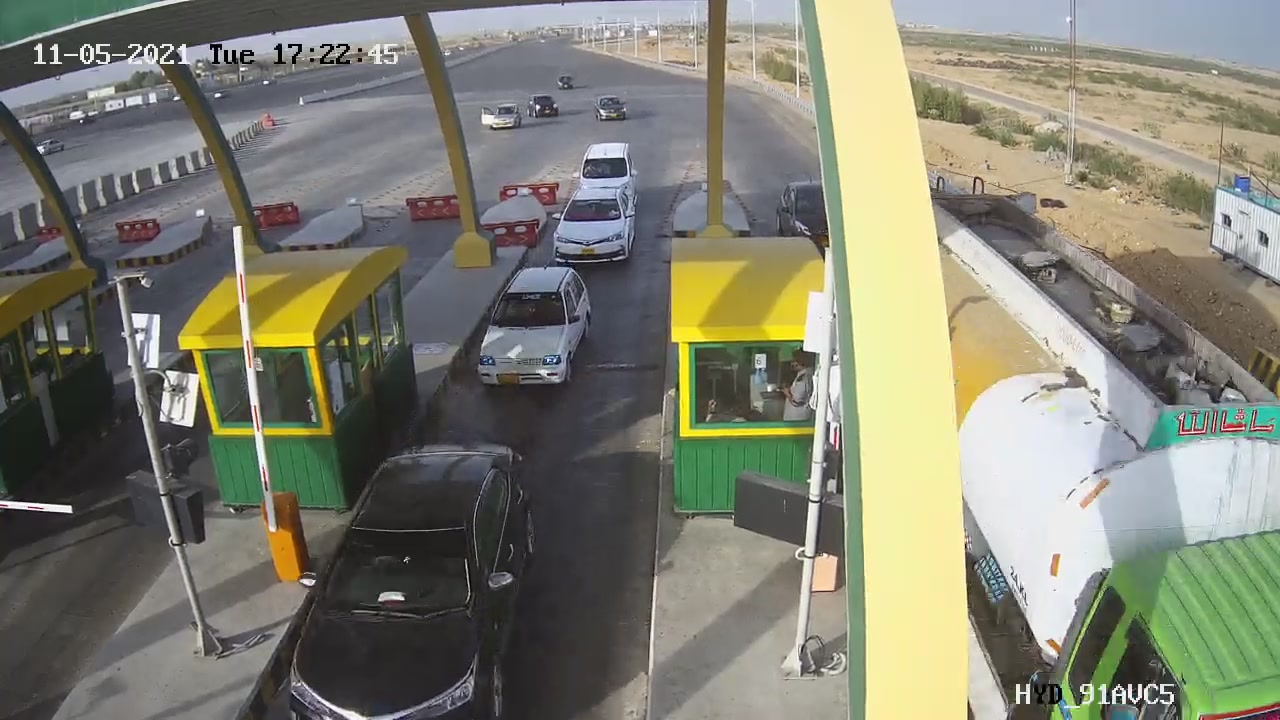F1: (461, 253, 607, 405), (538, 177, 651, 279)
